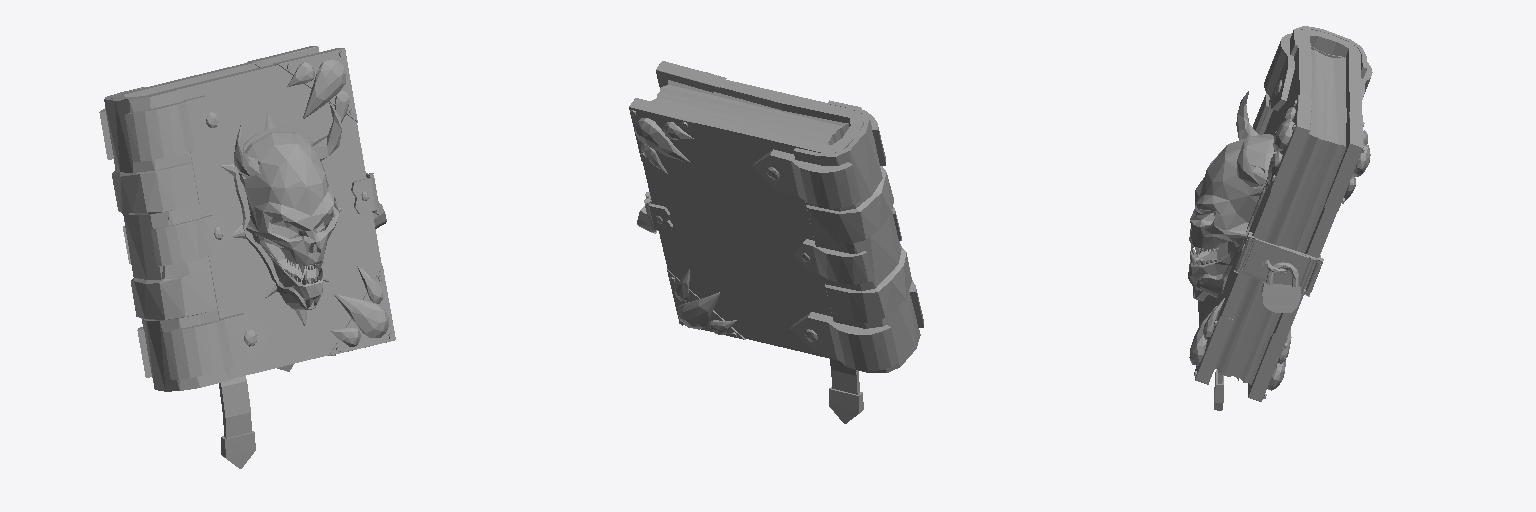
The model's file is necro-book-decimated.obj.
The picture shows the model from 3 angles: view 1: azimuth 30°, elevation 25°; view 2: azimuth 150°, elevation 25°; view 3: azimuth 270°, elevation 25°; orthographic projection.
Visible parts, largest first — view 1: grp_Book_ALL_grp_Book_Book_Mesh, grp_Book_ALL_Metals_Mesh_grp_Book, Skull_Mesh_grp_Skull_grp_Book_ALL, grp_Book_ALL_grp_Book_Spines_Mesh, grp_Book_ALL_grp_Book_Screws_Mesh, grp_Skull_grp_Book_ALL_Skull_Metal_Mesh, grp_Book_ALL_grp_Book_Lock_Mesh; view 2: grp_Book_ALL_grp_Book_Book_Mesh, grp_Book_ALL_Metals_Mesh_grp_Book, grp_Book_ALL_grp_Book_Pages_Mesh, grp_Book_ALL_grp_Book_Screws_Mesh, grp_Book_ALL_grp_Book_Spines_Mesh, grp_Book_ALL_grp_Book_Lock_Mesh; view 3: grp_Book_ALL_grp_Book_Pages_Mesh, Skull_Mesh_grp_Skull_grp_Book_ALL, grp_Book_ALL_grp_Book_Book_Mesh, grp_Book_ALL_grp_Book_Screws_Mesh, grp_Book_ALL_grp_Book_Lock_Mesh, grp_Book_ALL_grp_Book_Spines_Mesh, grp_Book_ALL_Metals_Mesh_grp_Book, grp_Skull_grp_Book_ALL_Skull_Metal_Mesh.
Part boxes in pixels (x1,y1,x2,y2): grp_Book_ALL_grp_Book_Book_Mesh: (104,63,381,468); grp_Book_ALL_Metals_Mesh_grp_Book: (99,95,271,379); Skull_Mesh_grp_Skull_grp_Book_ALL: (234,102,341,307); grp_Book_ALL_grp_Book_Spines_Mesh: (287,59,388,346); grp_Book_ALL_grp_Book_Screws_Mesh: (247,46,395,355); grp_Skull_grp_Book_ALL_Skull_Metal_Mesh: (220,113,342,325); grp_Book_ALL_grp_Book_Lock_Mesh: (351,173,386,228); grp_Book_ALL_grp_Book_Book_Mesh: (642,80,920,423); grp_Book_ALL_Metals_Mesh_grp_Book: (752,110,923,370); grp_Book_ALL_grp_Book_Pages_Mesh: (651,80,848,144); grp_Book_ALL_grp_Book_Screws_Mesh: (629,61,745,339); grp_Book_ALL_grp_Book_Spines_Mesh: (635,72,736,334); grp_Book_ALL_grp_Book_Lock_Mesh: (637,192,672,233); grp_Book_ALL_grp_Book_Pages_Mesh: (1214,46,1346,384); Skull_Mesh_grp_Skull_grp_Book_ALL: (1189,91,1273,286); grp_Book_ALL_grp_Book_Book_Mesh: (1193,26,1366,410); grp_Book_ALL_grp_Book_Screws_Mesh: (1194,95,1364,401); grp_Book_ALL_grp_Book_Lock_Mesh: (1234,232,1323,312); grp_Book_ALL_grp_Book_Spines_Mesh: (1189,107,1370,390); grp_Book_ALL_Metals_Mesh_grp_Book: (1188,33,1372,301); grp_Skull_grp_Book_ALL_Skull_Metal_Mesh: (1195,131,1276,310).
Size of the model in its own units: 16.62 by 22.73 by 10.71.